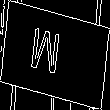M_S: (38, 26, 72, 84)
